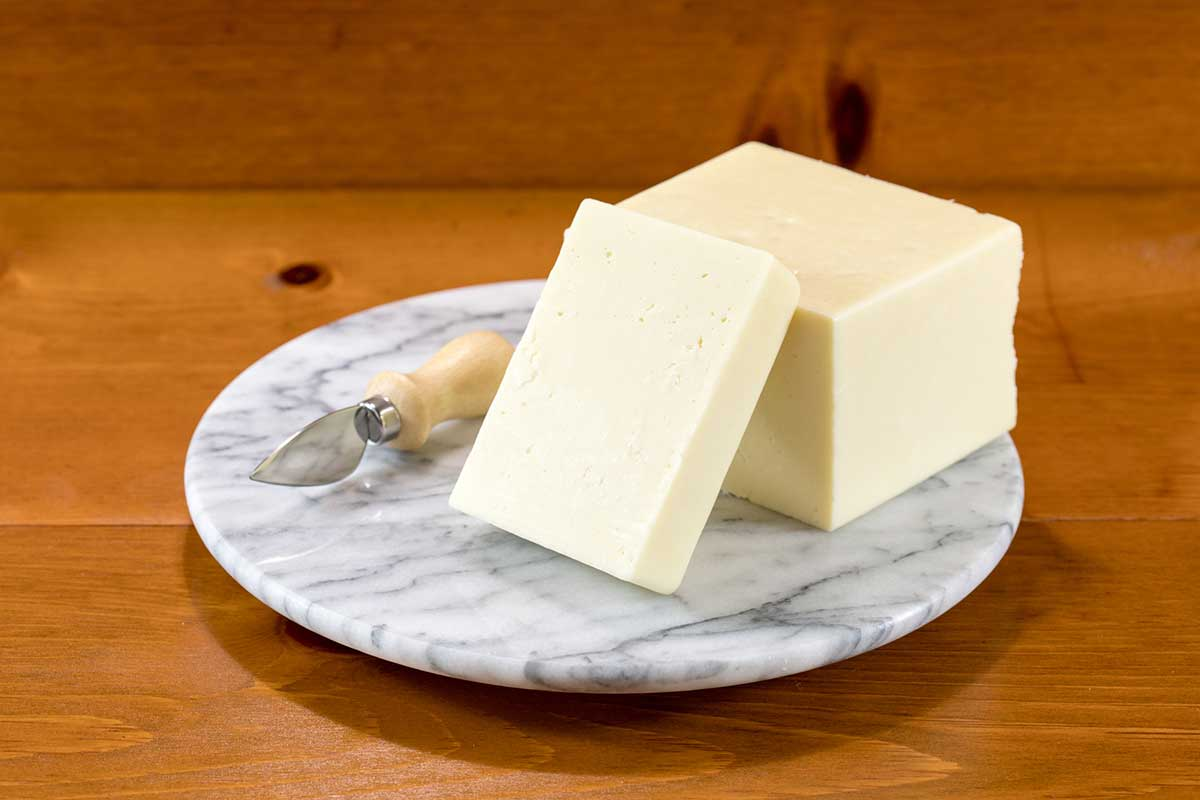cheese: (610, 134, 1052, 508), (457, 186, 765, 618)
